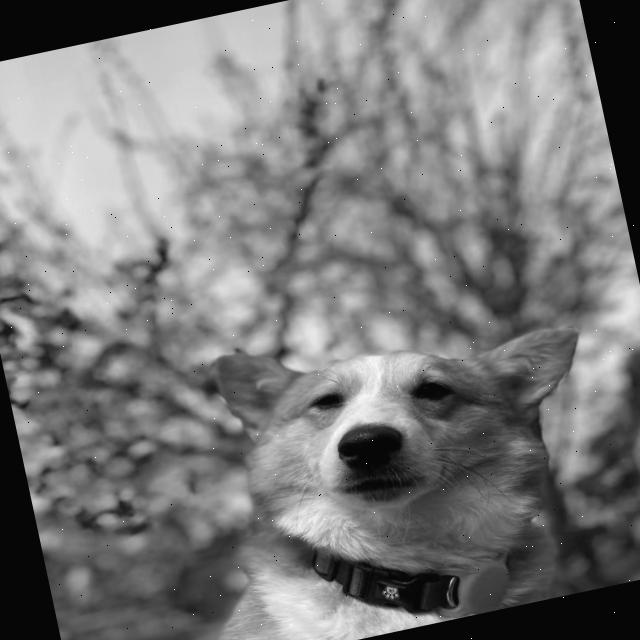corgi_dog: (177, 274, 630, 574)
